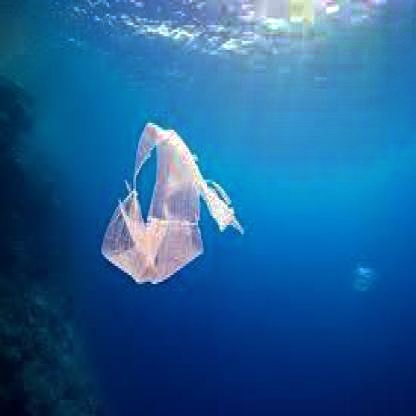pbag: (100, 118, 246, 291)
